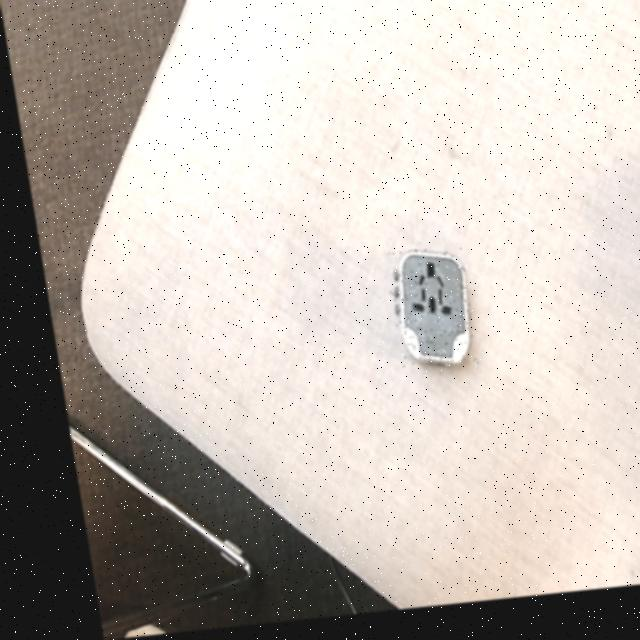adapter: (374, 254, 466, 379)
